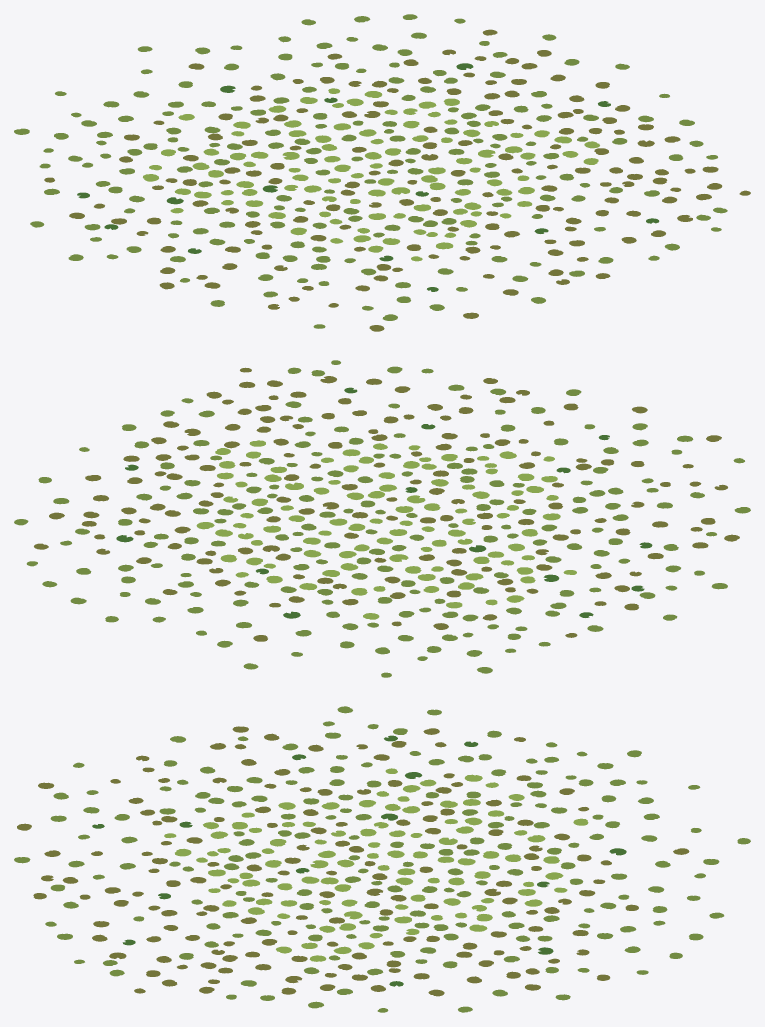
The model's file is plant_nymphaea_set_micro_heavy.fbx.
The picture shows the model from 3 angles, top to bottom: view 1: azimuth 30°, elevation 25°; view 2: azimuth 150°, elevation 25°; view 3: azimuth 270°, elevation 25°; orthographic projection.
Parts seen in each view (by area): view 1: plant_nymphaea_set_micro_heavy; view 2: plant_nymphaea_set_micro_heavy; view 3: plant_nymphaea_set_micro_heavy.
Boxes of the visible parts, left/top/right/bottom form: plant_nymphaea_set_micro_heavy: left=14, top=14, right=750, bottom=331; plant_nymphaea_set_micro_heavy: left=14, top=360, right=750, bottom=677; plant_nymphaea_set_micro_heavy: left=14, top=706, right=750, bottom=1012.
Bounding box in the file's own units: 301 × 0.2693 × 306.
